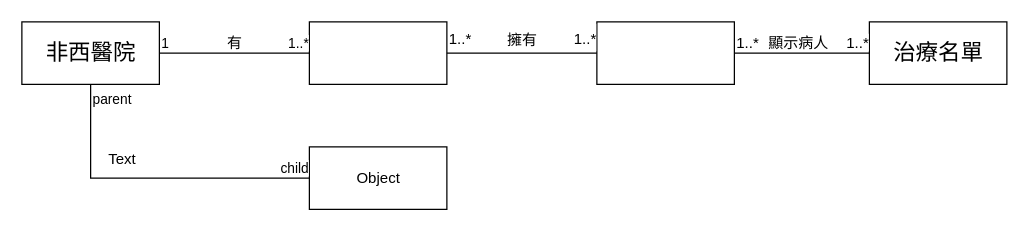
Image size: 1029x231. Some labels were removed from this diagram. The centre of each missing label's shape, as x and y in pixels:
時段: point 665,52
診間: point 377,52
